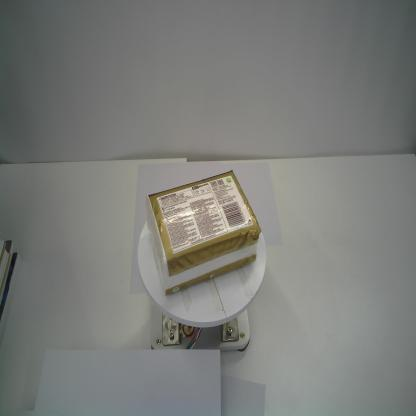Tissue: (146, 170, 262, 296)
